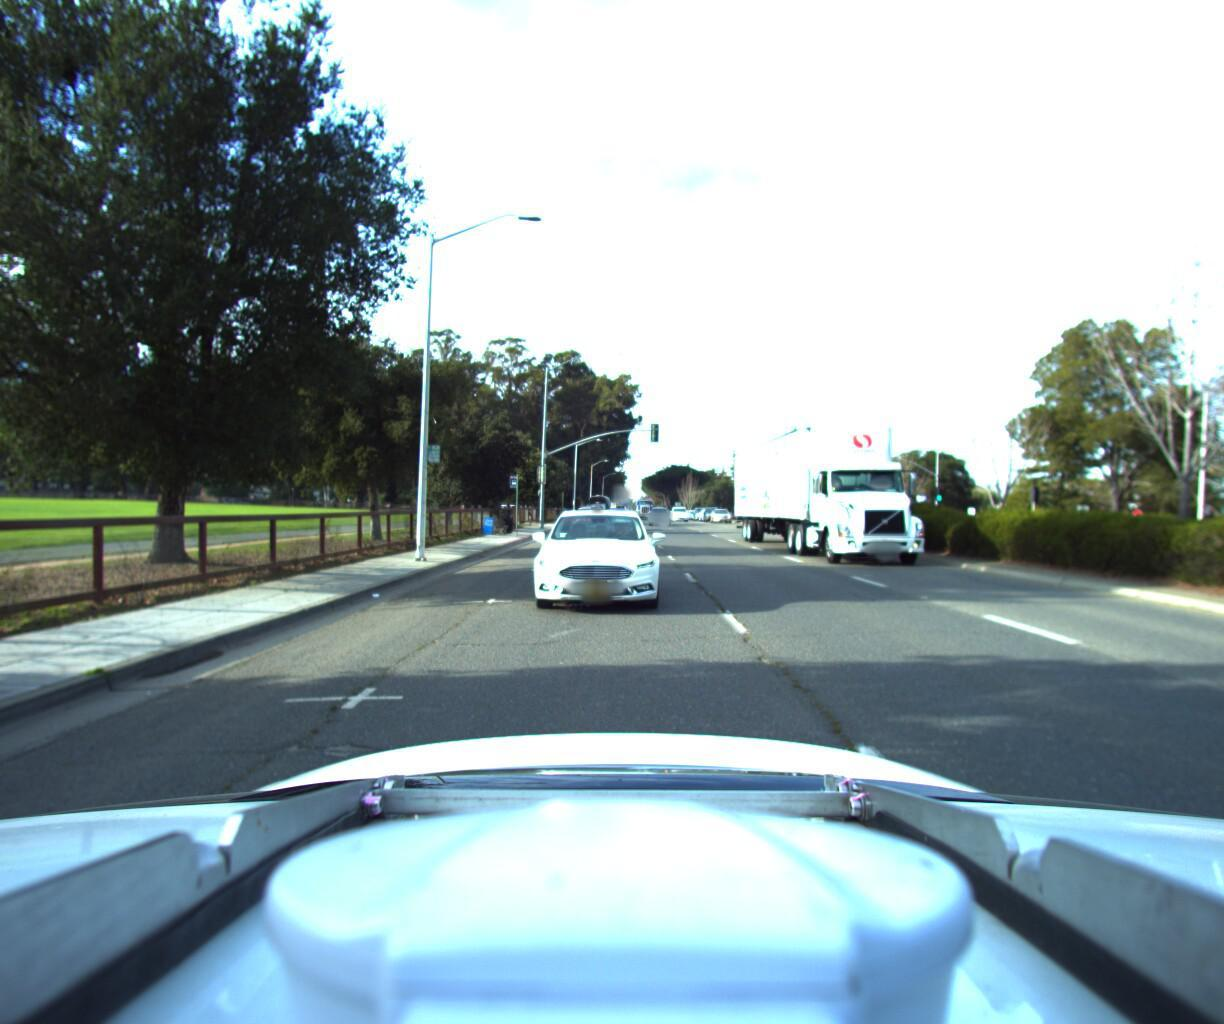car: (530, 501, 668, 615), (647, 499, 672, 518), (709, 501, 733, 516)
truck: (731, 394, 977, 567)
